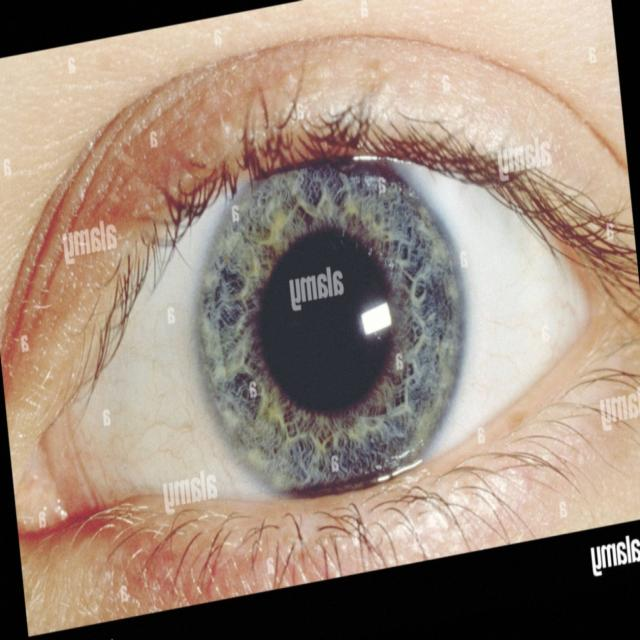Healthy-Eye: (91, 125, 548, 509)
